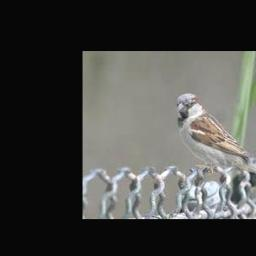Sparrow: (175, 93, 256, 189)
